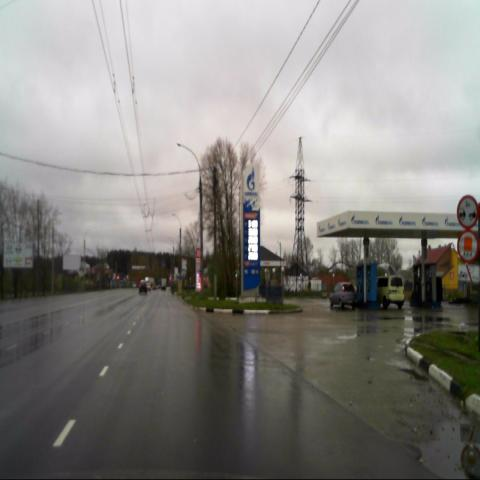3_16: (458, 192, 476, 230)
3_32: (458, 230, 478, 265)
